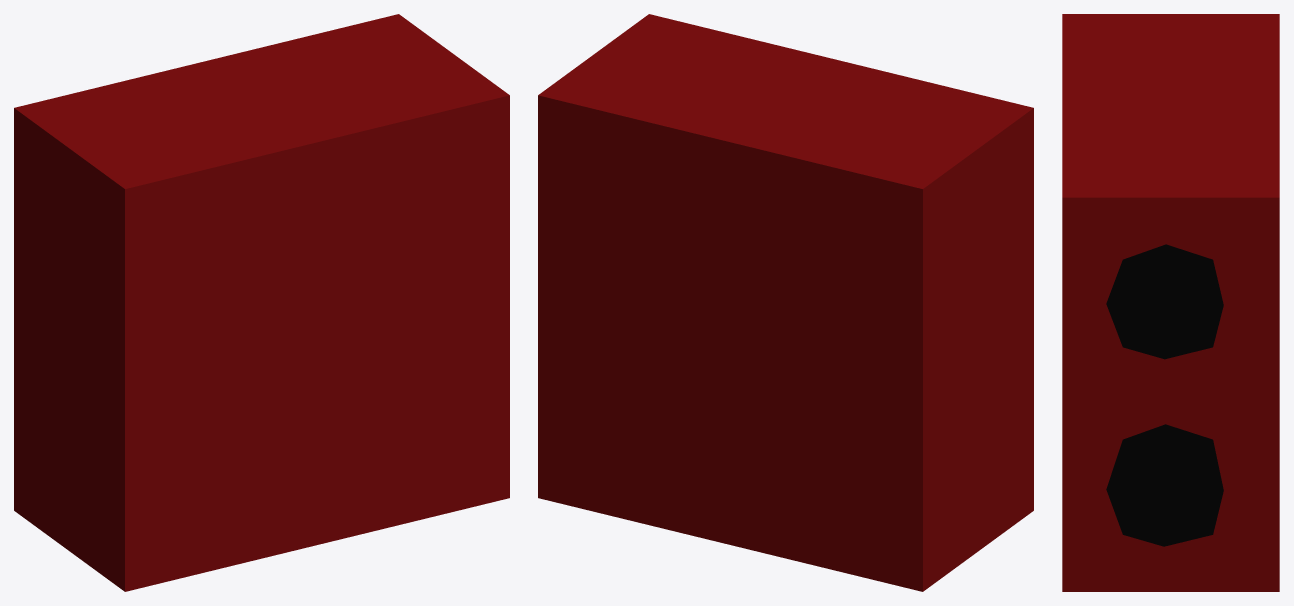
The model's file is Speaker.obj.
The picture shows the model from 3 angles, left to right: view 1: azimuth 30°, elevation 25°; view 2: azimuth 150°, elevation 25°; view 3: azimuth 270°, elevation 25°; orthographic projection. The views are drawn at different scales.
Visible parts, largest first — view 1: Cube_Cube.001; view 2: Cube_Cube.001; view 3: Cube_Cube.001, Cube.001_Cube.002.
Boxes of the visible parts, x1,y1,x2,y2 form: Cube_Cube.001: [14, 14, 509, 591]; Cube_Cube.001: [538, 14, 1033, 591]; Cube_Cube.001: [1062, 14, 1279, 591]; Cube.001_Cube.002: [1106, 244, 1223, 546].
Size of the model in its own units: 1.01 by 1 by 0.5.
